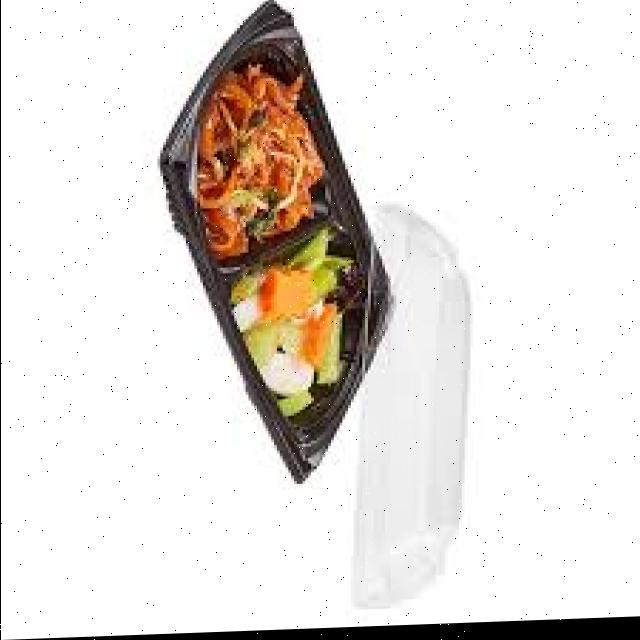disposable: (137, 0, 434, 498)
